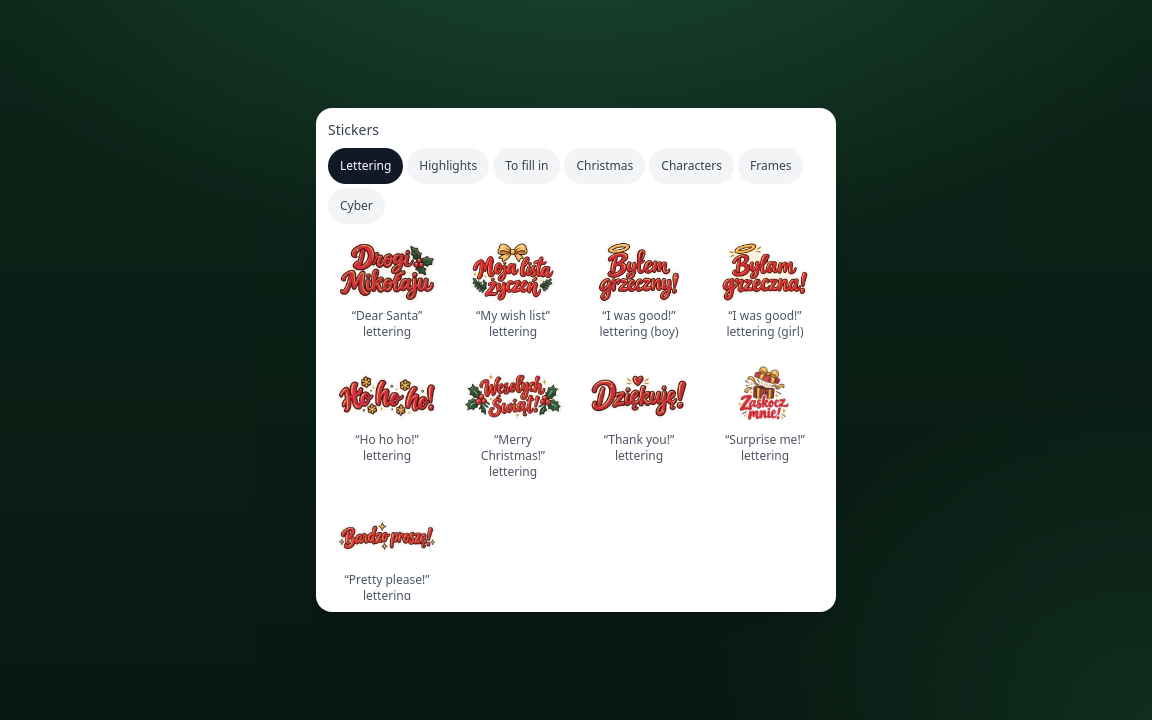
StickerPicker › renders only the stickers of the selected category, from lazy thumbnails
Step 1. Click the tab "Characters" → point(692, 166), box [649,148,734,184]
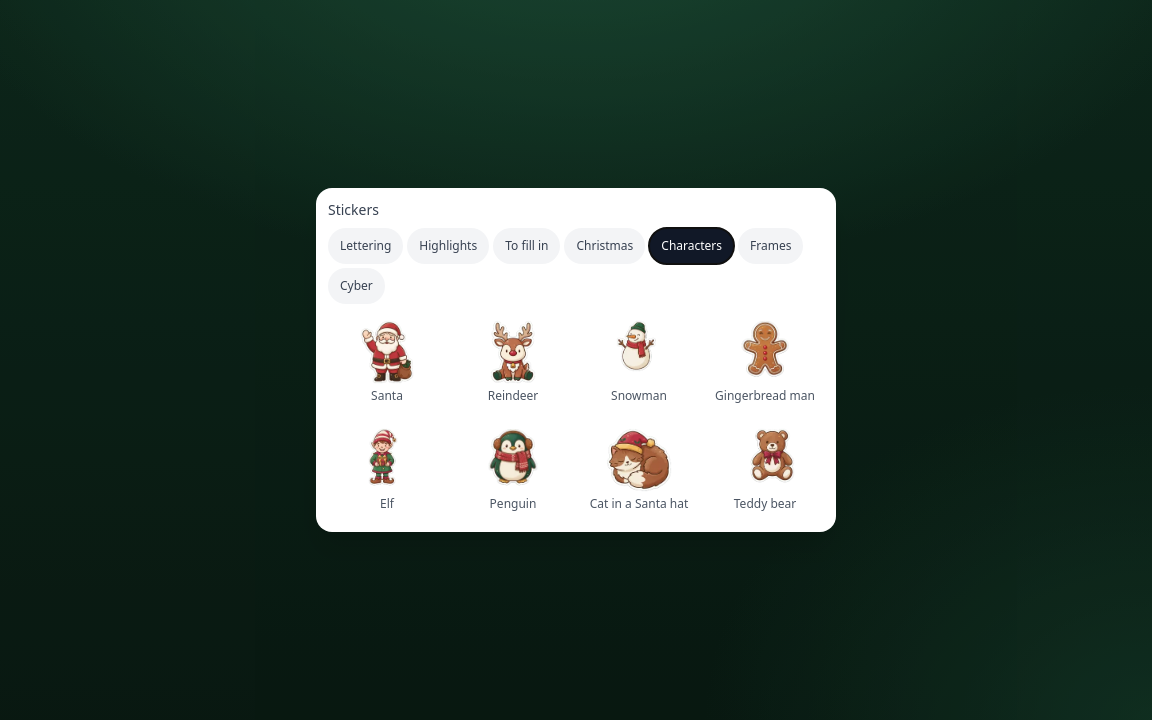
Now the button "Reindeer" is shown, box [454,312,572,412]
